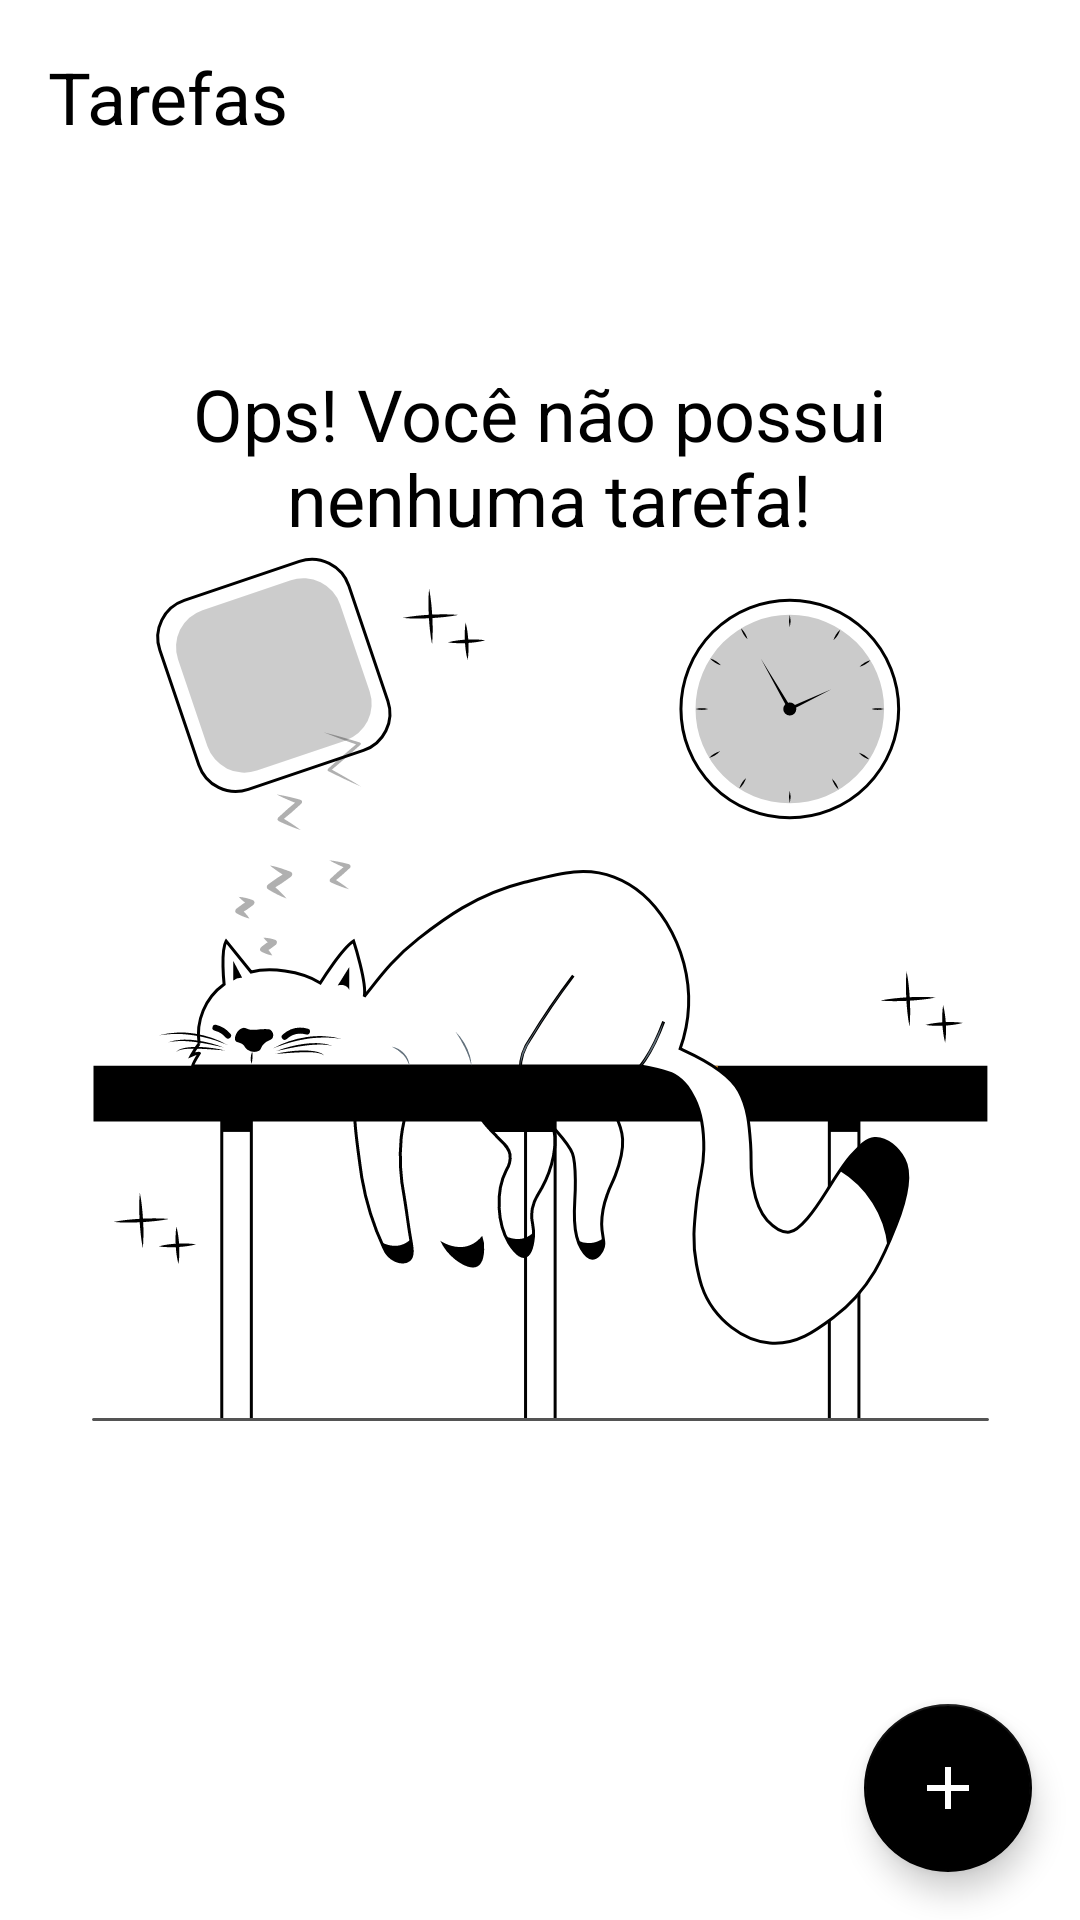

Where to tap for icons on this 1080w x 1920h app screen, as (x,y):
Nova Tarefa: (948,1788)
